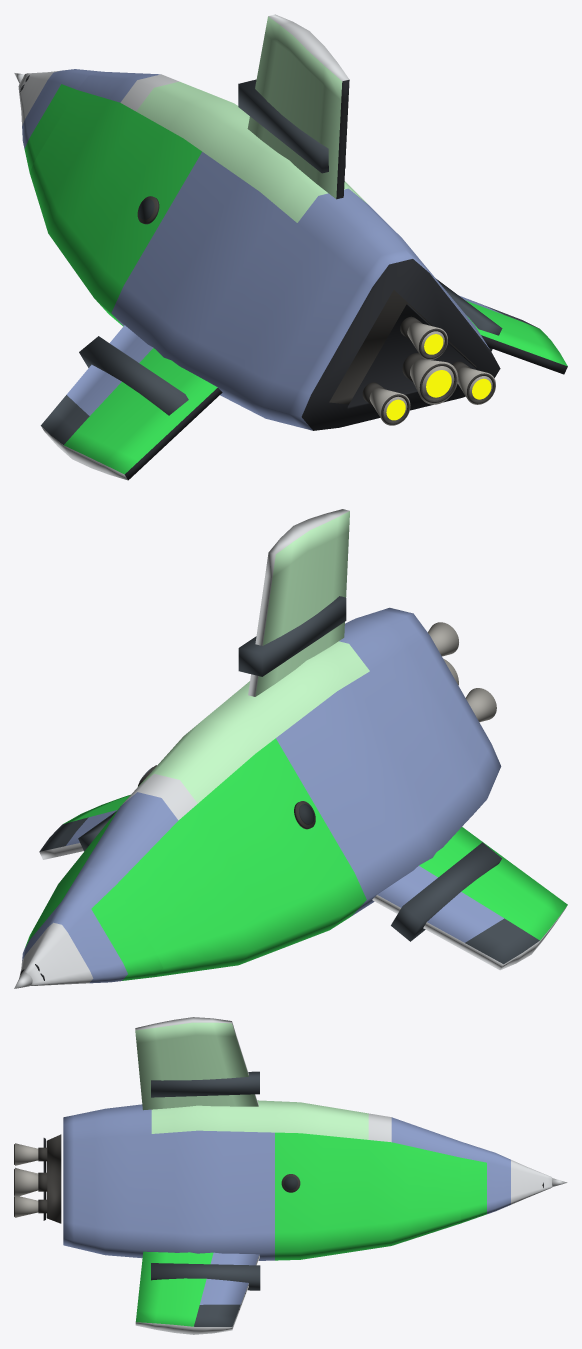
Rendered from Ship_Standard_5.glb.
3 views of the same model, one above another, from view 1: azimuth 30°, elevation 25°; view 2: azimuth 150°, elevation 25°; view 3: azimuth 270°, elevation 25° (orthographic). The views are drawn at different scales.
Parts seen in each view (by area): view 1: Fuselage_RoundedTriangleTriFoldBody, Wing_LowerLeft_TriFoldCornerBladePaintedMesh, Wing_Dorsal_TriFoldCornerBladePaintedMesh, Nose_RoundedTriangleTaperedForwardSection, EngineBlock_AftTriFoldTrimFrame, WingRootSocket_LowerLeft_IntegratedEmbeddedShoulder, Wing_LowerRight_TriFoldCornerBladePaintedMesh, WingRootSocket_Dorsal_IntegratedEmbeddedShoulder, EngineBlock_AftTriangularIntegratedMountPlate, EngineEmitter, EngineBell_Center_BurnishedNozzle, WingRootSocket_LowerRight_IntegratedEmbeddedShoulder (+3 smaller); view 2: Fuselage_RoundedTriangleTriFoldBody, Wing_LowerLeft_TriFoldCornerBladePaintedMesh, Nose_RoundedTriangleTaperedForwardSection, Wing_Dorsal_TriFoldCornerBladePaintedMesh, WingRootSocket_LowerLeft_IntegratedEmbeddedShoulder, WingRootSocket_Dorsal_IntegratedEmbeddedShoulder, Wing_LowerRight_TriFoldCornerBladePaintedMesh, EngineBell_LowerLeft_BurnishedNozzle, EngineBell_Dorsal_BurnishedNozzle; view 3: Fuselage_RoundedTriangleTriFoldBody, Wing_Dorsal_TriFoldCornerBladePaintedMesh, Wing_LowerRight_TriFoldCornerBladePaintedMesh, Nose_RoundedTriangleTaperedForwardSection, WingRootSocket_Dorsal_IntegratedEmbeddedShoulder, WingRootSocket_LowerRight_IntegratedEmbeddedShoulder, EngineBlock_AftTriangularIntegratedMountPlate, EngineBell_Center_BurnishedNozzle, EngineBell_Dorsal_BurnishedNozzle, EngineBell_LowerRight_BurnishedNozzle.
Boxes of the visible parts, <box> form: Fuselage_RoundedTriangleTriFoldBody: <box>29,72,500,430</box>; Wing_LowerLeft_TriFoldCornerBladePaintedMesh: <box>40,325,222,480</box>; Wing_Dorsal_TriFoldCornerBladePaintedMesh: <box>247,14,349,199</box>; Nose_RoundedTriangleTaperedForwardSection: <box>18,69,103,172</box>; EngineBlock_AftTriFoldTrimFrame: <box>347,304,478,408</box>; WingRootSocket_LowerLeft_IntegratedEmbeddedShoulder: <box>79,336,188,415</box>; Wing_LowerRight_TriFoldCornerBladePaintedMesh: <box>459,295,567,374</box>; WingRootSocket_Dorsal_IntegratedEmbeddedShoulder: <box>238,79,345,173</box>; EngineBlock_AftTriangularIntegratedMountPlate: <box>329,290,476,404</box>; EngineEmitter: <box>386,334,491,420</box>; EngineBell_Center_BurnishedNozzle: <box>410,359,458,404</box>; WingRootSocket_LowerRight_IntegratedEmbeddedShoulder: <box>436,279,502,351</box>; Fuselage_RoundedTriangleTriFoldBody: <box>33,607,501,976</box>; Wing_LowerLeft_TriFoldCornerBladePaintedMesh: <box>372,827,567,970</box>; Nose_RoundedTriangleTaperedForwardSection: <box>19,867,163,985</box>; Wing_Dorsal_TriFoldCornerBladePaintedMesh: <box>248,509,349,696</box>; WingRootSocket_LowerLeft_IntegratedEmbeddedShoulder: <box>391,842,501,941</box>; WingRootSocket_Dorsal_IntegratedEmbeddedShoulder: <box>238,596,346,676</box>; Wing_LowerRight_TriFoldCornerBladePaintedMesh: <box>39,794,130,859</box>; EngineBell_LowerLeft_BurnishedNozzle: <box>465,688,496,722</box>; EngineBell_Dorsal_BurnishedNozzle: <box>428,622,458,656</box>; Fuselage_RoundedTriangleTriFoldBody: <box>63,1100,460,1260</box>; Wing_Dorsal_TriFoldCornerBladePaintedMesh: <box>135,1017,258,1110</box>; Wing_LowerRight_TriFoldCornerBladePaintedMesh: <box>135,1251,259,1334</box>; Nose_RoundedTriangleTaperedForwardSection: <box>460,1141,552,1223</box>; WingRootSocket_Dorsal_IntegratedEmbeddedShoulder: <box>151,1071,259,1097</box>; WingRootSocket_LowerRight_IntegratedEmbeddedShoulder: <box>151,1263,260,1290</box>; EngineBlock_AftTriangularIntegratedMountPlate: <box>46,1134,61,1223</box>; EngineBell_Center_BurnishedNozzle: <box>15,1167,38,1196</box>; EngineBell_Dorsal_BurnishedNozzle: <box>15,1143,38,1165</box>; EngineBell_LowerRight_BurnishedNozzle: <box>15,1195,38,1217</box>.
Bounding box in the file's own units: 4.97 × 3.69 × 7.67.
